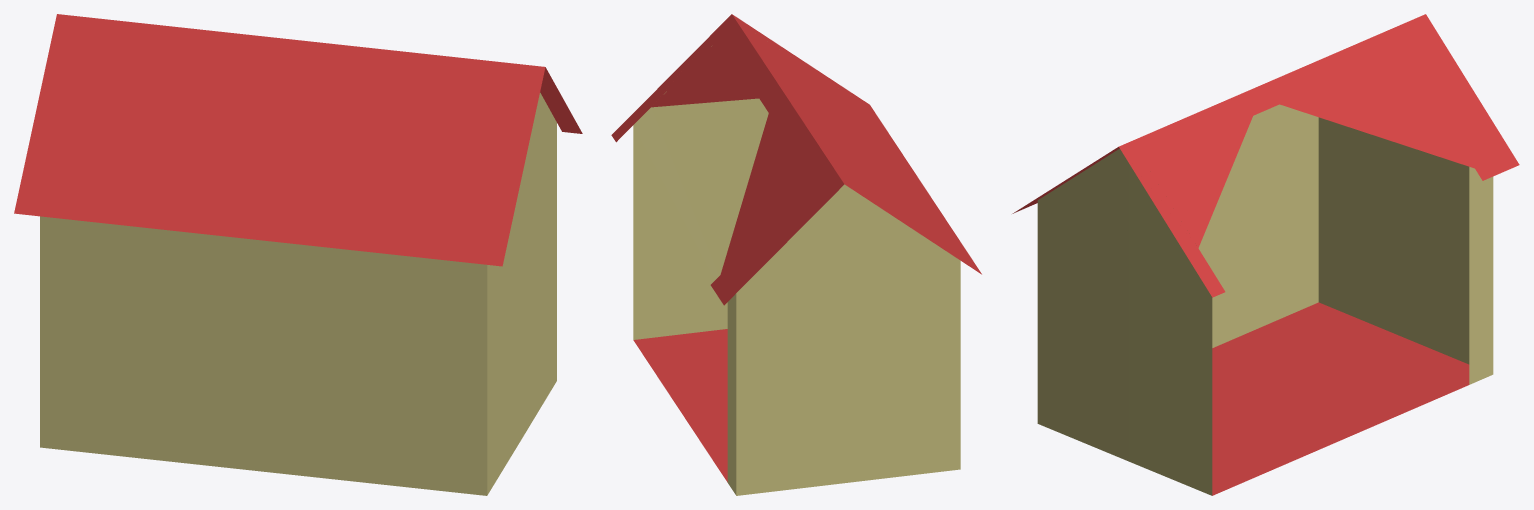
3 views of the same model, side by side, from view 1: azimuth 30°, elevation 25°; view 2: azimuth 150°, elevation 25°; view 3: azimuth 270°, elevation 25° (orthographic). The views are drawn at different scales.
Size of the model in its own units: 20.53 by 20.43 by 14.26.
